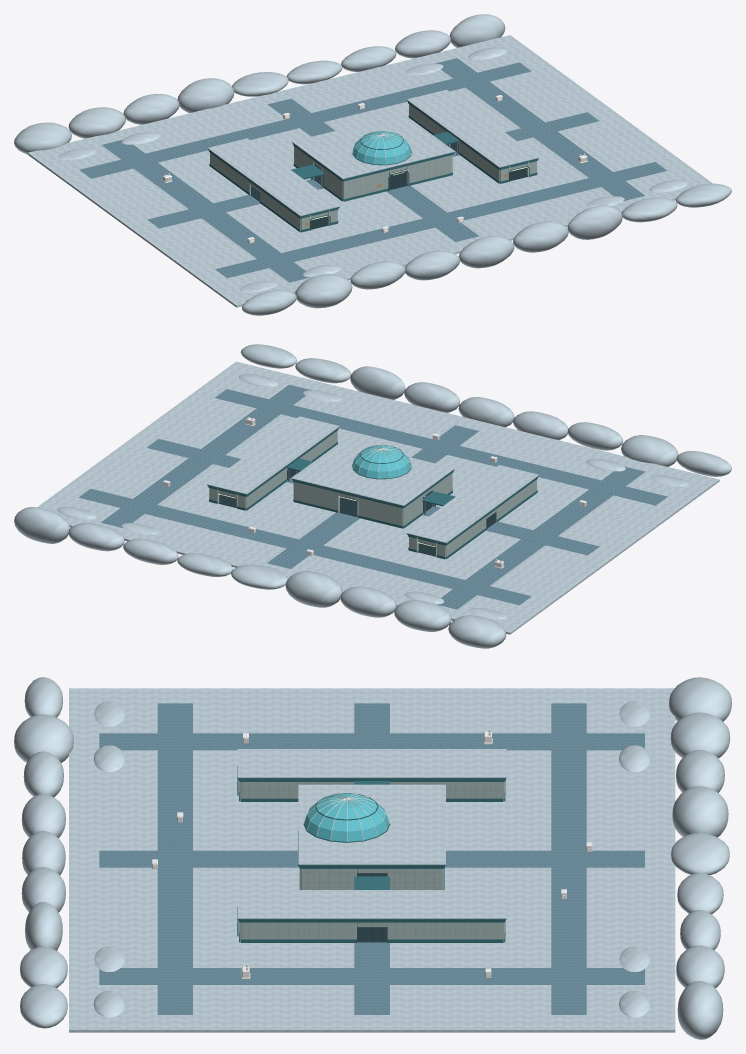
File: snow-low.glb
3 views of the same model, one above another, from view 1: azimuth 30°, elevation 25°; view 2: azimuth 150°, elevation 25°; view 3: azimuth 270°, elevation 25° (orthographic). The views are drawn at different scales.
Parts seen in each view (by area): view 1: Batched 0, Batched 1, Batched 5, Batched 3, Batched 47, Concept arctic observatory glass facets.002, Batched 4, Batched 2; view 2: Batched 0, Batched 1, Batched 5, Batched 3, Batched 47, Concept arctic observatory glass facets.002, Batched 4, Batched 2; view 3: Batched 0, Batched 1, Batched 5, Batched 3, Batched 47, Concept arctic observatory glass facets.002, Batched 4, Batched 51, Batched 2.
Part boxes in pixels (box(x1,y1,x2,y2)): Batched 0: box(14, 14, 731, 315); Batched 1: box(79, 58, 667, 282); Batched 5: box(207, 89, 539, 216); Batched 3: box(210, 104, 536, 231); Batched 47: box(209, 102, 537, 232); Concept arctic observatory glass facets.002: box(353, 131, 411, 164); Batched 4: box(208, 100, 538, 217); Batched 2: box(250, 142, 526, 229); Batched 0: box(14, 344, 731, 648); Batched 1: box(78, 384, 667, 609); Batched 5: box(207, 416, 538, 543); Batched 3: box(209, 431, 536, 558); Batched 47: box(208, 429, 537, 559); Concept arctic observatory glass facets.002: box(352, 445, 410, 478); Batched 4: box(207, 427, 538, 544); Batched 2: box(219, 469, 495, 556); Batched 0: box(14, 677, 731, 1039); Batched 1: box(99, 703, 644, 1014); Batched 5: box(237, 749, 506, 918); Batched 3: box(239, 782, 504, 942); Batched 47: box(239, 779, 505, 942); Concept arctic observatory glass facets.002: box(304, 793, 389, 841); Batched 4: box(238, 778, 506, 920); Batched 51: box(303, 793, 389, 841); Batched 2: box(357, 873, 387, 942).
Bounding box in the file's own units: 162 × 17.71 × 142.
15 materials, 4 textured.
